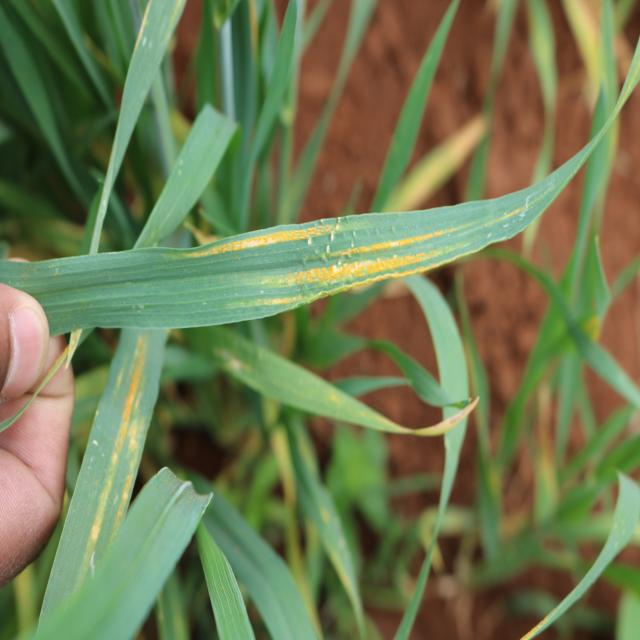Stripe Rust: (326, 213, 468, 264), (166, 228, 326, 264), (276, 266, 416, 293)
